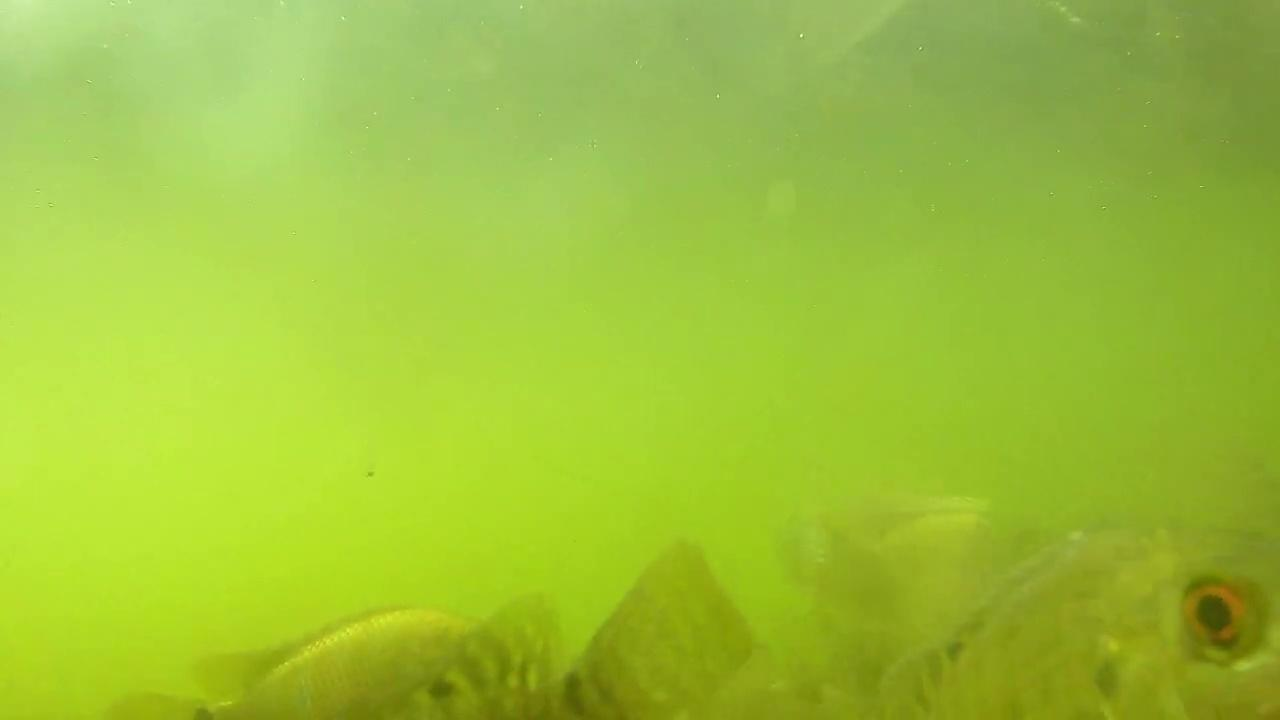Tilapia: (123, 574, 496, 720), (1083, 502, 1280, 720)
